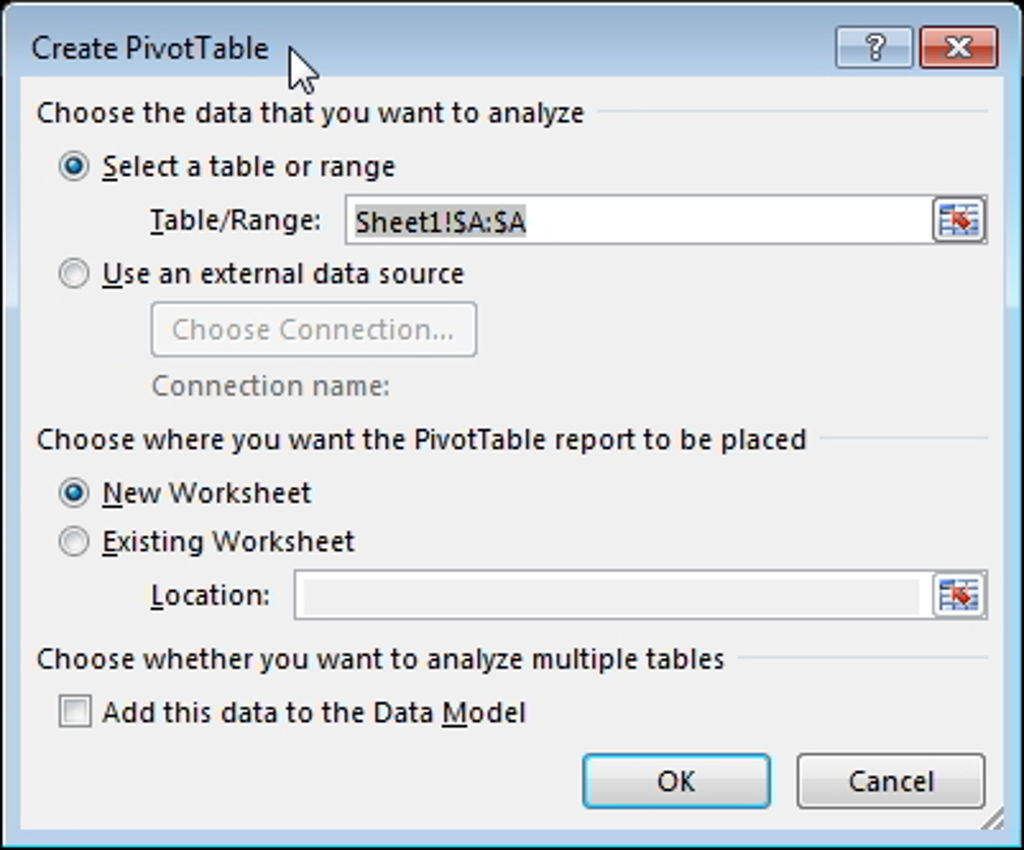button: (150, 299, 480, 359), (579, 749, 775, 813), (794, 748, 987, 812), (919, 24, 999, 70), (834, 24, 914, 69), (934, 566, 993, 625), (935, 192, 988, 247), (50, 140, 99, 190), (52, 251, 99, 294), (52, 472, 99, 515), (52, 520, 99, 560), (55, 691, 94, 729)
common: (100, 252, 471, 294), (99, 140, 402, 190), (99, 695, 534, 727), (148, 366, 396, 410), (99, 519, 361, 560), (140, 194, 331, 242), (97, 474, 321, 514), (144, 573, 280, 618)
container: (2, 2, 1023, 850), (22, 77, 1003, 830), (22, 78, 1002, 416), (22, 416, 1001, 633), (20, 634, 1001, 741), (1, 1, 1022, 77), (139, 562, 994, 629), (140, 193, 992, 248), (580, 749, 987, 813), (49, 687, 540, 732), (52, 248, 472, 295), (50, 139, 402, 192), (52, 522, 363, 561), (53, 472, 322, 515), (53, 472, 322, 514)
header: (30, 636, 733, 684), (29, 419, 815, 459), (35, 94, 593, 133), (26, 23, 280, 70)
text-input: (291, 566, 934, 624), (344, 193, 933, 246)
